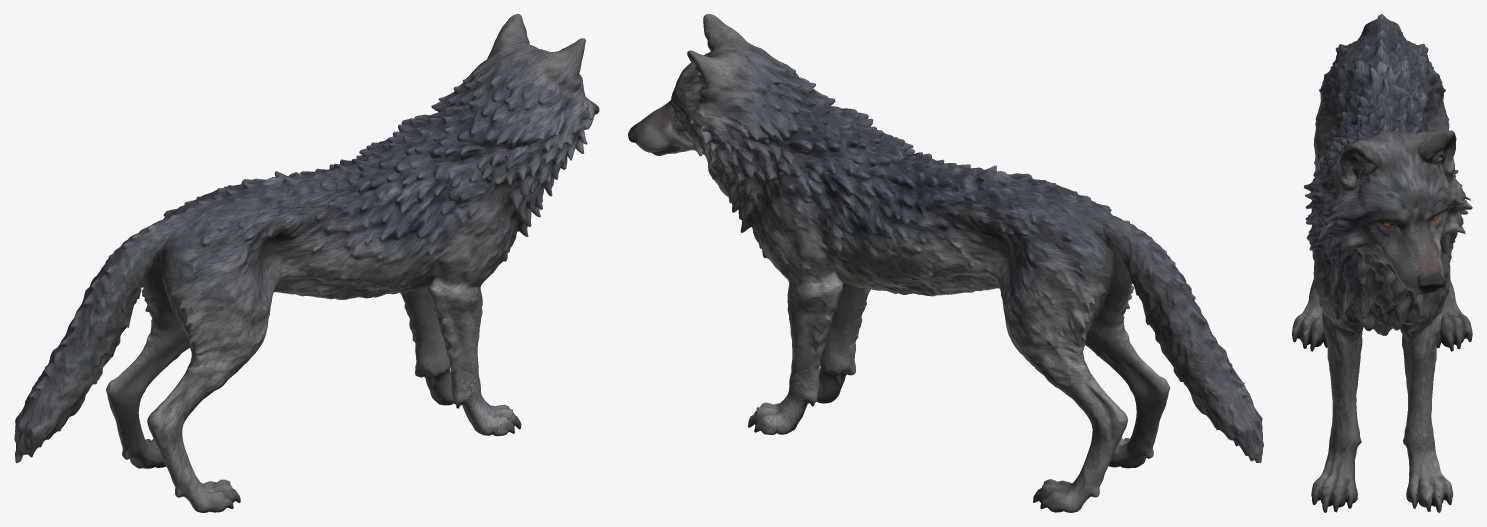
The picture shows the model from 3 angles, left to right: view 1: azimuth 30°, elevation 25°; view 2: azimuth 150°, elevation 25°; view 3: azimuth 270°, elevation 25°; orthographic projection. The views are drawn at different scales.
Visible parts, largest first — view 1: tripo_node_5045d3c4-640e-479d-a609-0ed27483ca5b; view 2: tripo_node_5045d3c4-640e-479d-a609-0ed27483ca5b; view 3: tripo_node_5045d3c4-640e-479d-a609-0ed27483ca5b.
Part boxes in pixels (box(x1,y1,x2,y2)): tripo_node_5045d3c4-640e-479d-a609-0ed27483ca5b: box(14, 14, 599, 512); tripo_node_5045d3c4-640e-479d-a609-0ed27483ca5b: box(628, 14, 1263, 512); tripo_node_5045d3c4-640e-479d-a609-0ed27483ca5b: box(1292, 14, 1472, 512).
Size of the model in its own units: 1 by 0.5738 by 0.229.
Materials: 1 (1 with a texture image).
